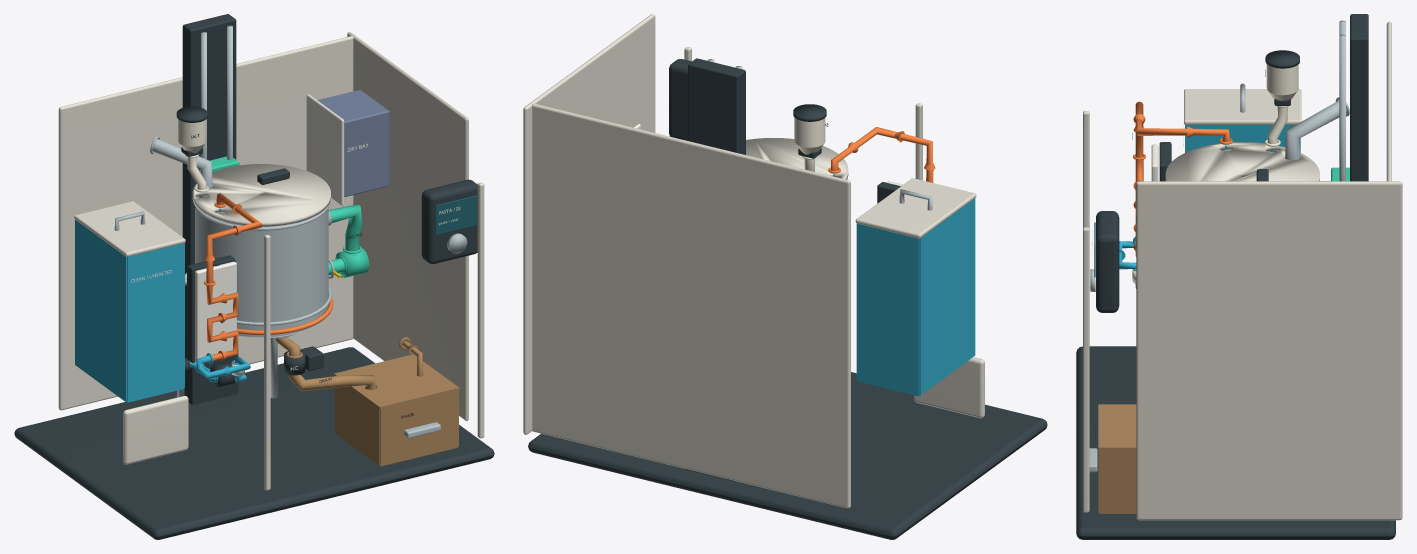
File: pasta-cooker-v2-exterior.glb
3 renders of one model, left to right at view 1: azimuth 30°, elevation 25°; view 2: azimuth 150°, elevation 25°; view 3: azimuth 270°, elevation 25°, orthographic. The views are drawn at different scales.
Parts seen in each view (by area): view 1: Chassis drip containment base, Rear outer guard, Right outer guard, Vessel front cutaway shell, Tank front panel, Tank left wall, Lift drive mast, Removable chamber lid, Dry electronics compartment, Waste front drawer panel, Left tank lower skirt, Waste lid (+18 smaller); view 2: Rear outer guard, Chassis drip containment base, Right outer guard, Tank rear wall, Tank left wall, Lift drive mast, Tank lid, Left tank lower skirt, Removable chamber lid, Control console, H02 heater.out -> fill.nozzle, Salt cartridge cylinder; view 3: Right outer guard, Chassis drip containment base, Removable chamber lid, Tank lid, Lift drive mast, Waste right wall, Control console, Front guard post 308, Waste lid, Tank right wall, ST01 steam.in -> steam.out, H02 heater.out -> fill.nozzle (+7 smaller).
Boxes of the visible parts, x1,y1,x2,y2 form: Chassis drip containment base: (14,347,494,539); Rear outer guard: (58,36,353,410); Right outer guard: (347,32,468,420); Vessel front cutaway shell: (204,208,328,337); Tank front panel: (127,243,184,402); Tank left wall: (75,219,126,401); Lift drive mast: (182,14,236,273); Removable chamber lid: (192,164,330,226); Dry electronics compartment: (317,90,389,196); Waste front drawer panel: (380,390,458,465); Left tank lower skirt: (123,395,188,464); Waste lid: (334,354,459,409); Rear outer guard: (532,103,850,508); Chassis drip containment base: (528,372,1047,539); Right outer guard: (523,14,655,434); Tank rear wall: (857,223,919,395); Tank left wall: (919,198,975,395); Lift drive mast: (688,58,745,154); Tank lid: (855,178,976,238); Left tank lower skirt: (914,357,984,418); Removable chamber lid: (746,138,848,179); Control console: (669,59,691,140); H02 heater.out -> fill.nozzle: (831,127,933,182); Salt cartridge cylinder: (794,118,825,147); Right outer guard: (1136,181,1402,520); Chassis drip containment base: (1076,346,1395,539); Removable chamber lid: (1165,142,1319,181); Tank lid: (1184,89,1301,124); Lift drive mast: (1350,14,1368,181); Waste right wall: (1099,450,1136,513); Control console: (1096,211,1119,312); Front guard post 308: (1083,227,1089,512); Waste lid: (1098,404,1136,449); Tank right wall: (1186,125,1295,152); ST01 steam.in -> steam.out: (1285,100,1347,160); H02 heater.out -> fill.nozzle: (1135,101,1229,157).
Bounding box in the file's own units: 0.66 × 0.718 × 0.49.
